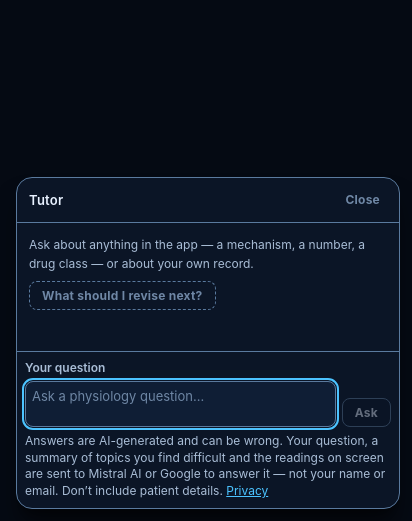
Test: ChatPanel › falls back to the app`s own writing when the tutor cannot be reached
Type "how does carbon dioxide change the pH" into the text box labelled "Your question" at (180, 404), box x1=25 y1=381 x2=336 y2=427
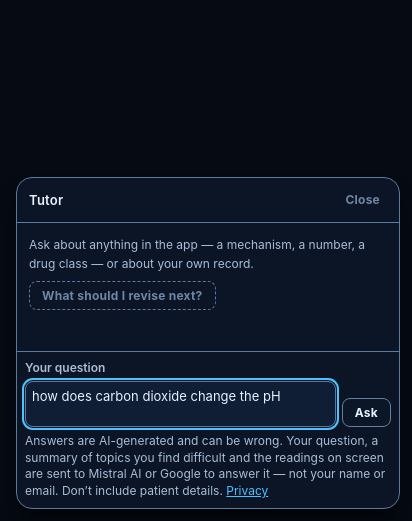
Click the button "Ask" at (366, 412), box x1=342 y1=398 x2=391 y2=427
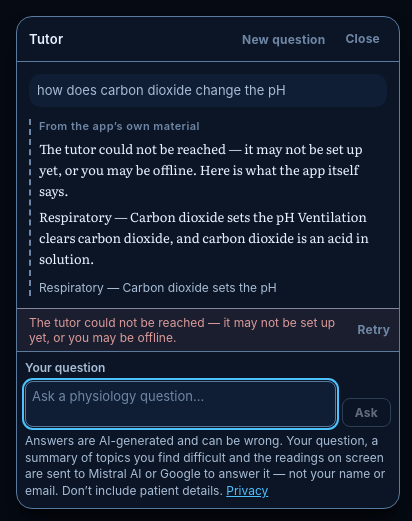
Now the text "From the app’s own material" is shown, box x1=39 y1=119 x2=200 y2=133
Now the text "Ventilation clears carbon dioxide, and carbon dioxide is an acid in solution." is shown, box x1=39 y1=207 x2=369 y2=268
